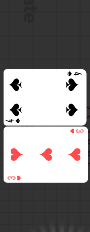3H: (7, 174, 23, 181)
4C: (66, 70, 83, 77)
